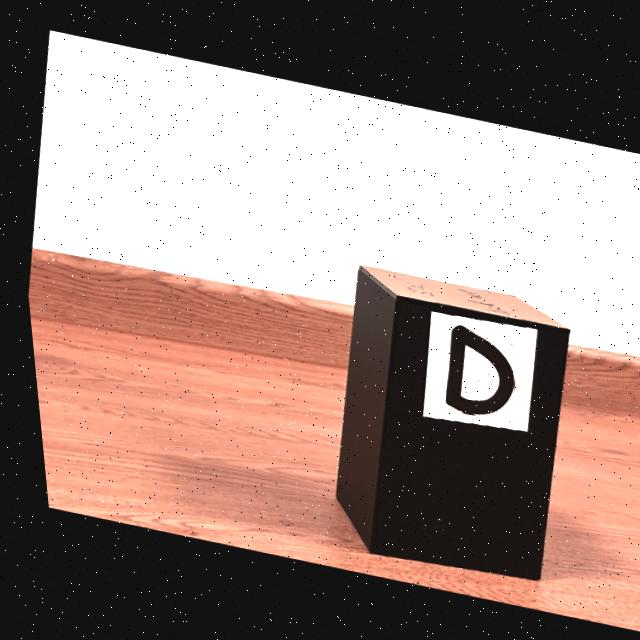D: (438, 322, 507, 412)
